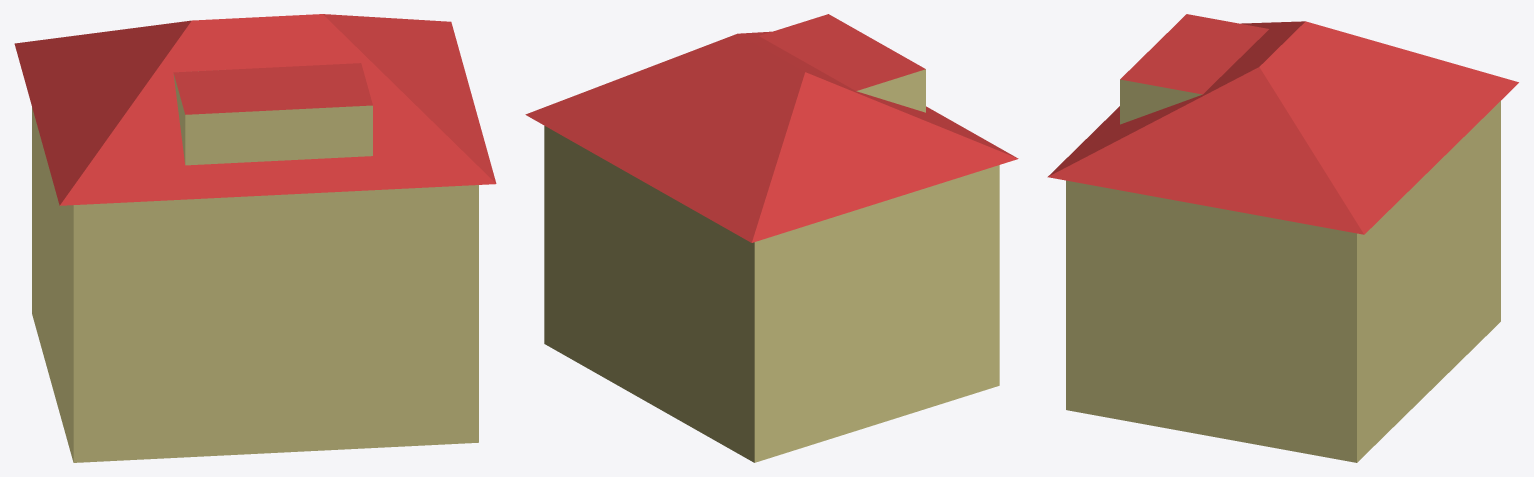
3 renders of one model, left to right at view 1: azimuth 30°, elevation 25°; view 2: azimuth 150°, elevation 25°; view 3: azimuth 270°, elevation 25°, orthographic. The views are drawn at different scales.
Visible parts, largest first — view 1: group_7, group_3, group_5, group_4, group_6; view 2: group_7, group_3, group_4, group_6, group_5; view 3: group_7, group_3, group_4, group_6, group_5.
Part boxes in pixels (left/top/right/bottom): group_7: left=32, top=71, right=478, bottom=462; group_3: left=14, top=14, right=496, bottom=205; group_5: left=173, top=74, right=372, bottom=165; group_4: left=173, top=63, right=372, bottom=114; group_6: left=16, top=21, right=495, bottom=205; group_7: left=544, top=126, right=999, bottom=462; group_3: left=526, top=31, right=1018, bottom=242; group_4: left=759, top=14, right=925, bottom=90; group_6: left=525, top=107, right=1014, bottom=241; group_5: left=856, top=69, right=925, bottom=112; group_7: left=1066, top=101, right=1500, bottom=462; group_3: left=1048, top=21, right=1518, bottom=234; group_4: left=1120, top=14, right=1268, bottom=94; group_6: left=1049, top=78, right=1518, bottom=233; group_5: left=1120, top=79, right=1202, bottom=124.
Bounding box in the file's own units: 17.57 × 16.69 × 12.57.
